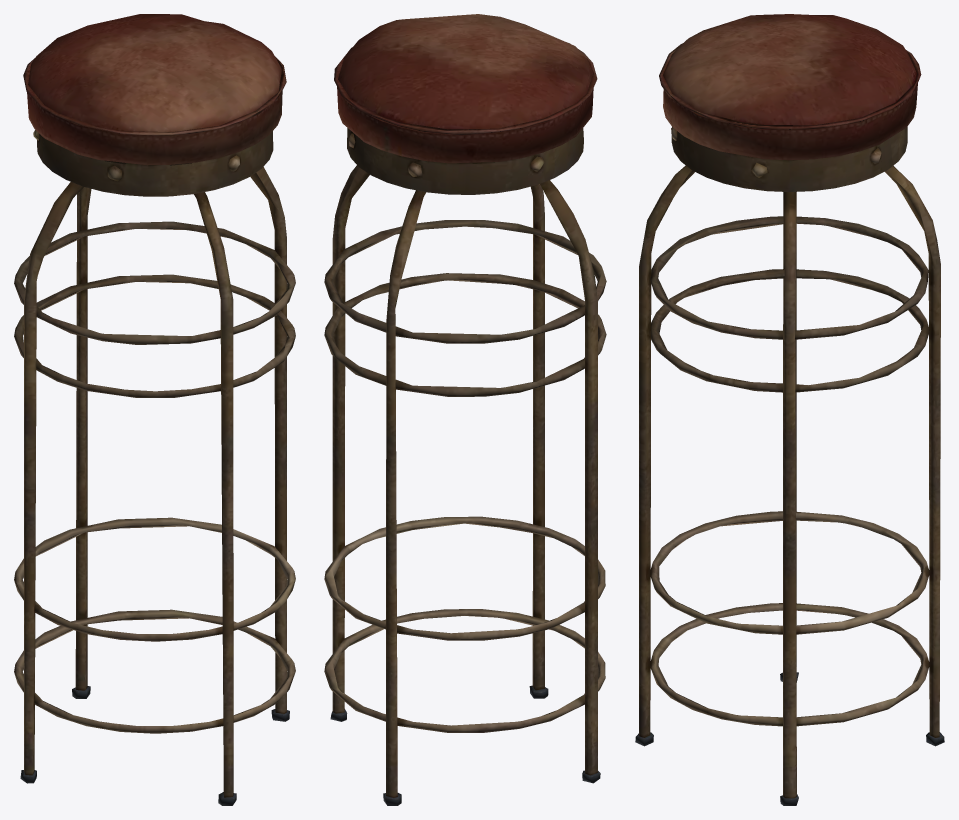
The model's file is metal_stool_01.glb.
3 views of the same model, side by side, from view 1: azimuth 30°, elevation 25°; view 2: azimuth 150°, elevation 25°; view 3: azimuth 270°, elevation 25° (orthographic).
Parts seen in each view (by area): view 1: metal_stool_01; view 2: metal_stool_01; view 3: metal_stool_01.
Boxes of the visible parts, x1,y1,x2,y2 form: metal_stool_01: (14, 14, 295, 805); metal_stool_01: (324, 14, 606, 805); metal_stool_01: (635, 14, 944, 805).
Size of the model in its own units: 0.3505 by 0.8822 by 0.3538.
1 material, 1 textured.
